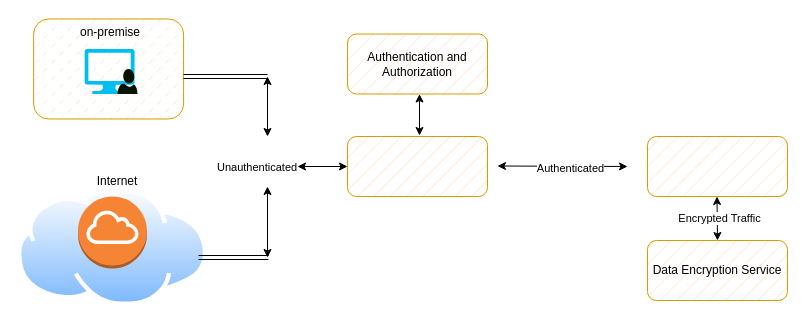
The diagram is 805 pixels wide and 324 high, and some of its shapes have lost their labels. Each missing label, with the centre of its shape:
"Enterprise resources" belongs at (x=717, y=166).
"Policy Enforcement Point" belongs at (x=417, y=166).
